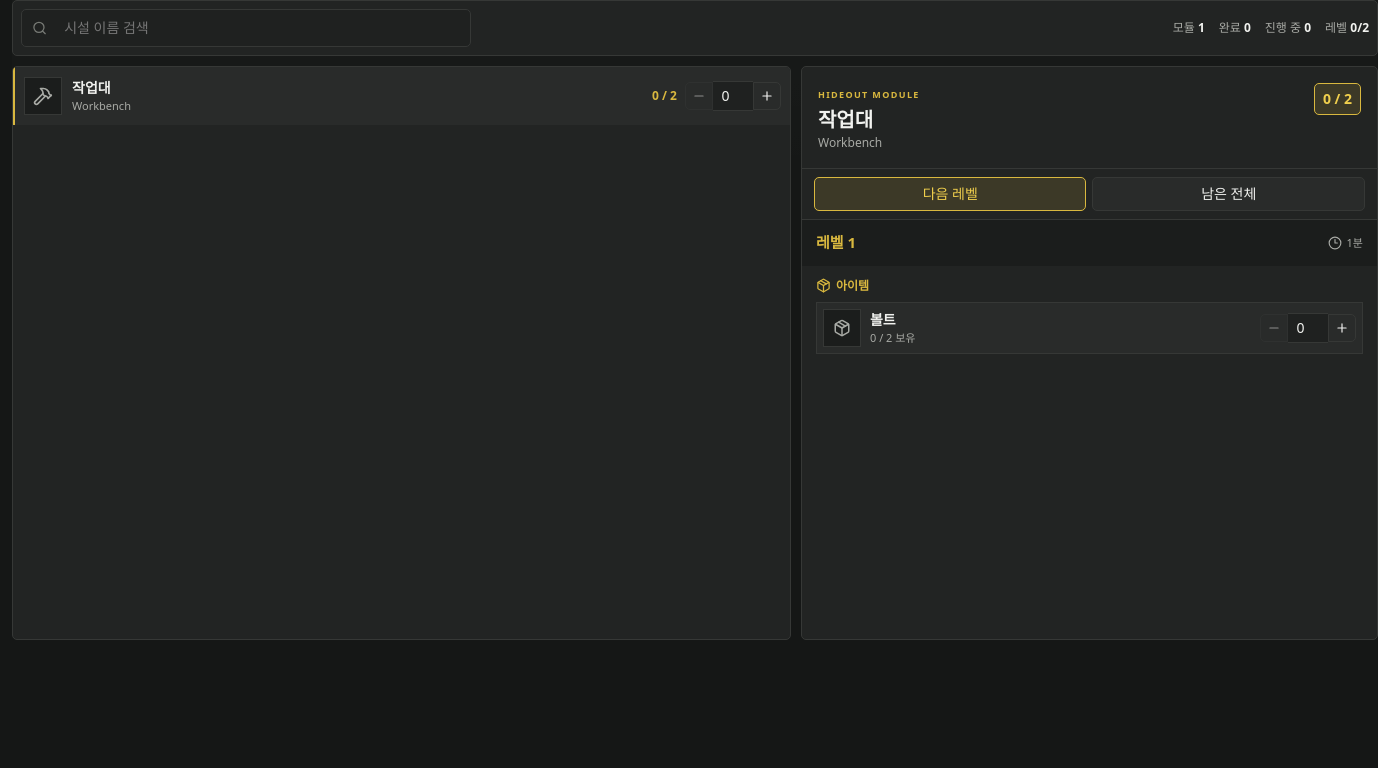
Test case: HideoutPage › aggregates every remaining level by item
Click the button "남은 전체" at (1229, 194), box [1092,177,1365,211]
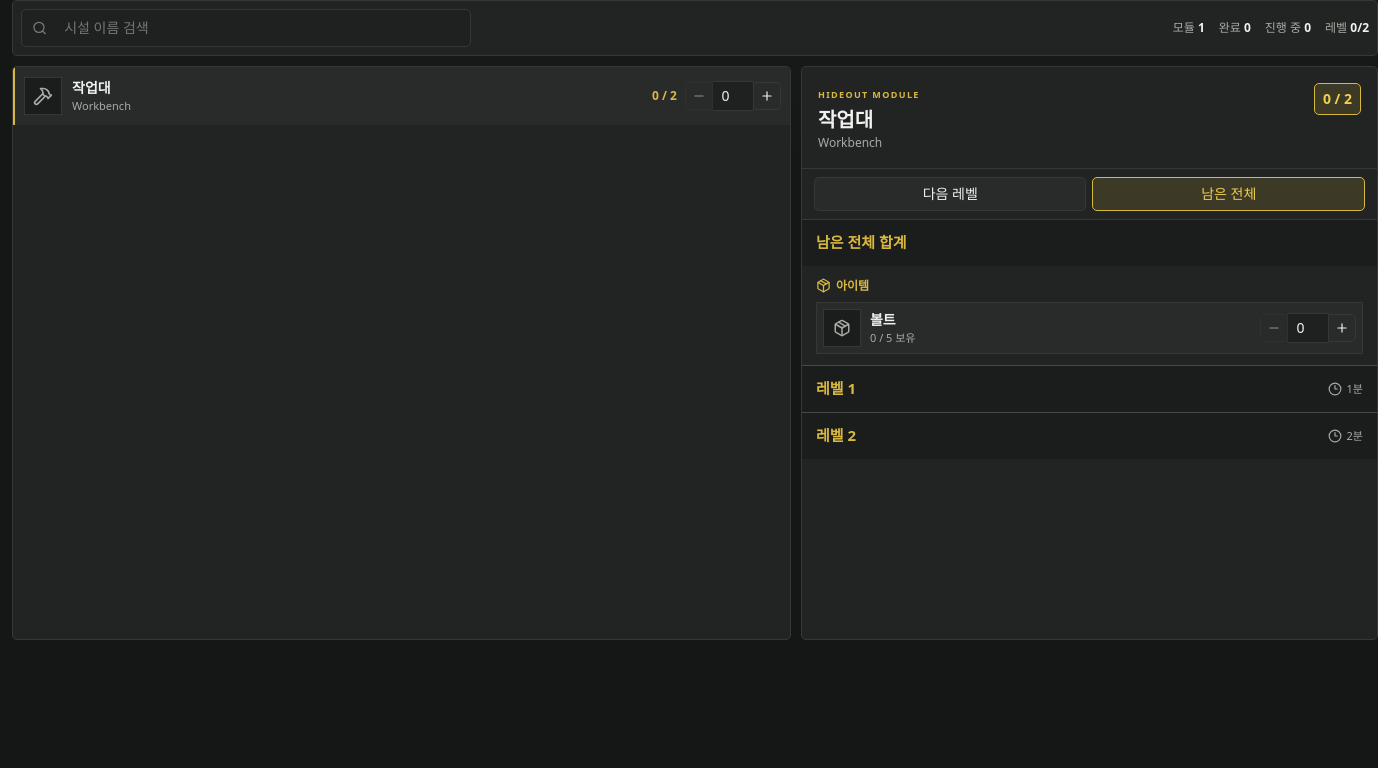
Expected: the text "볼트" is shown once, [870,310,896,329]
Result: the heading "남은 전체 합계" is shown at [816,232,907,254]
Result: the text "0 / 5 보유" is shown at [870,330,916,345]
